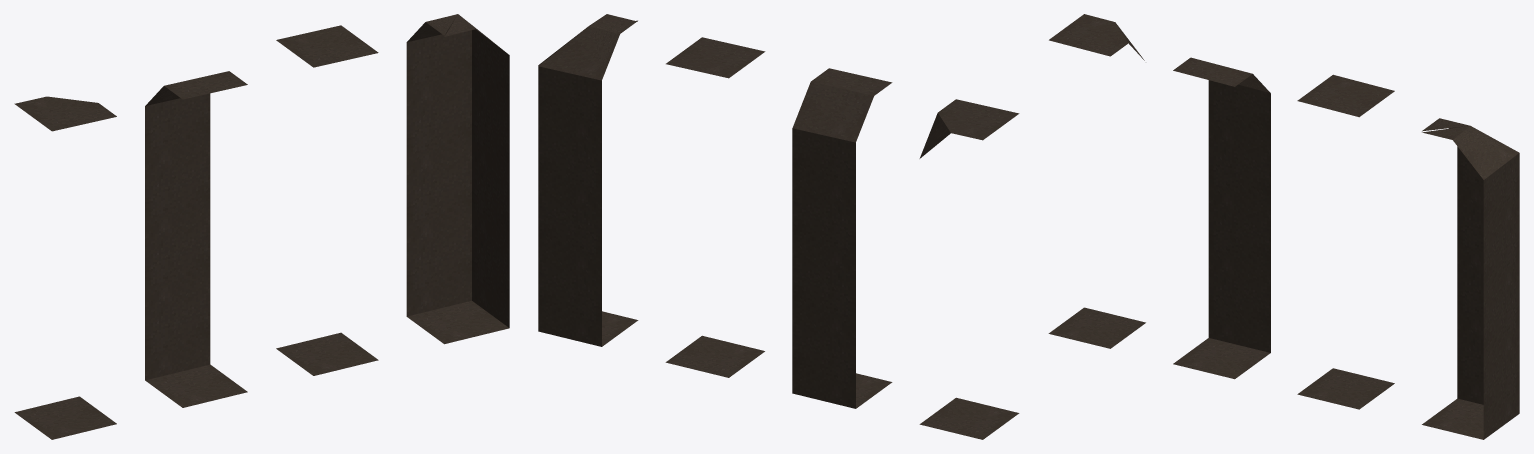
Rendered from tilesDirt2.glb.
3 renders of one model, left to right at view 1: azimuth 30°, elevation 25°; view 2: azimuth 150°, elevation 25°; view 3: azimuth 330°, elevation 25°, orthographic. The views are drawn at different scales.
Parts seen in each view (by area): view 1: cornerDirt-col, wallDirt-col, roofDirt-col, roofCornerDirt-col; view 2: wallDirt-col, cornerDirt-col, roofCornerDirt-col, roofDirt-col; view 3: wallDirt-col, cornerDirt-col, roofDirt-col, roofCornerDirt-col.
Part boxes in pixels (x1=…): cornerDirt-col: x1=406, y1=14, x2=509, y2=344; wallDirt-col: x1=145, y1=71, x2=247, y2=407; roofDirt-col: x1=276, y1=25, x2=378, y2=375; roofCornerDirt-col: x1=14, y1=96, x2=116, y2=439; wallDirt-col: x1=792, y1=68, x2=892, y2=408; cornerDirt-col: x1=538, y1=14, x2=638, y2=346; roofCornerDirt-col: x1=919, y1=99, x2=1019, y2=439; roofDirt-col: x1=665, y1=37, x2=765, y2=377; wallDirt-col: x1=1173, y1=57, x2=1270, y2=379; cornerDirt-col: x1=1422, y1=118, x2=1519, y2=439; roofDirt-col: x1=1297, y1=74, x2=1394, y2=409; roofCornerDirt-col: x1=1048, y1=14, x2=1145, y2=348.
Size of the model in its own units: 7 by 4.51 by 1.
1 material, 1 textured.
